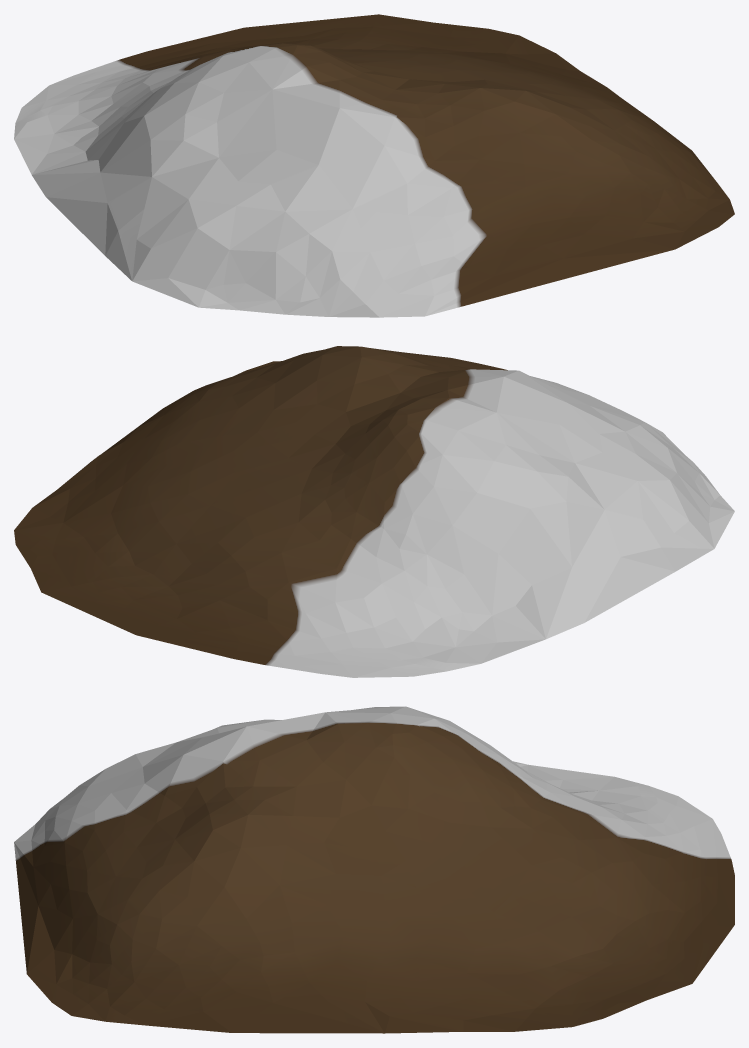
Rendered from Hill_05.fbx.
The picture shows the model from 3 angles, top to bottom: view 1: azimuth 30°, elevation 25°; view 2: azimuth 150°, elevation 25°; view 3: azimuth 270°, elevation 25°; orthographic projection. The views are drawn at different scales.
Parts seen in each view (by area): view 1: Hill_05; view 2: Hill_05; view 3: Hill_05.
Boxes of the visible parts, x1,y1,x2,y2 form: Hill_05: (14,14,734,317); Hill_05: (14,346,734,677); Hill_05: (14,706,734,1033).
Bounding box in the file's own units: 19.65 × 4.41 × 20.92.
